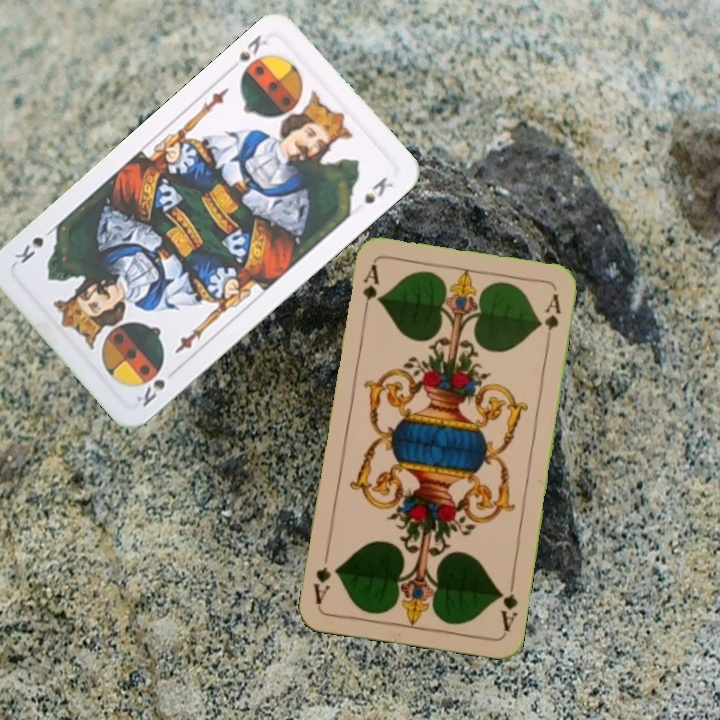GA: (494, 575, 521, 634), (358, 260, 382, 319)
SK: (132, 375, 168, 410), (235, 31, 270, 64)
